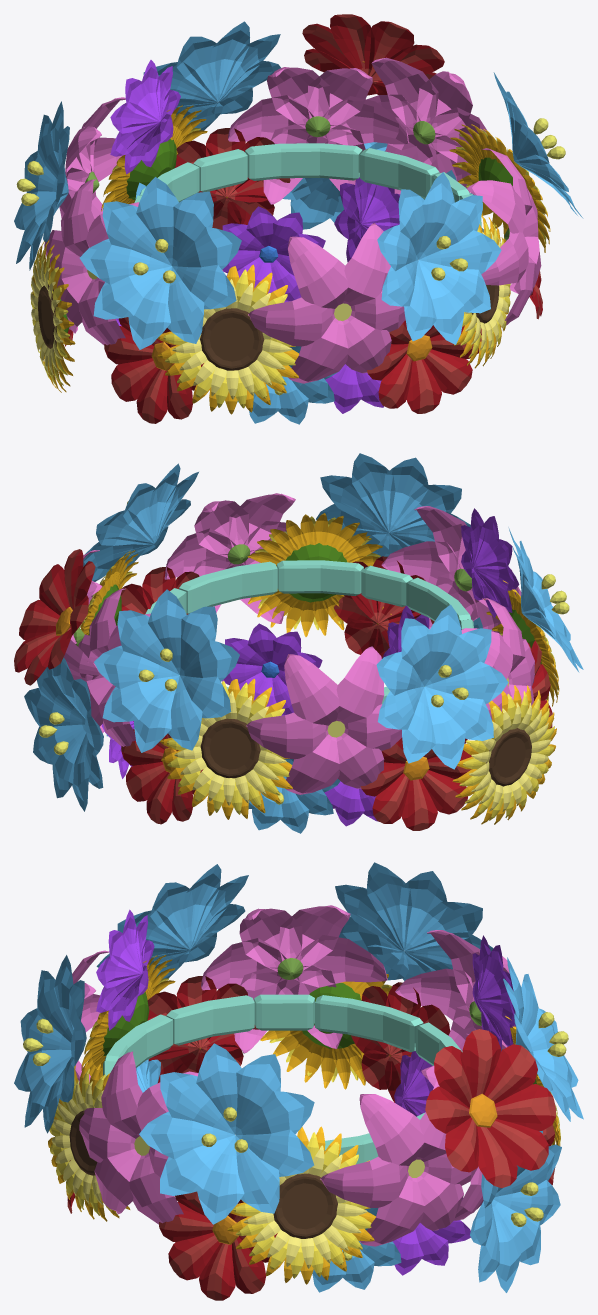
File: The Flower Crown.fbx
3 renders of one model, top to bottom at view 1: azimuth 30°, elevation 25°; view 2: azimuth 150°, elevation 25°; view 3: azimuth 270°, elevation 25°, orthographic. The views are drawn at different scales.
Parts seen in each view (by area): view 1: petal.001, Pink Flower, petal, mid petals.001, Pink Flower.003, Cube, Pink Flower.004, petal.006, Sphere, Sphere.004, Pink Flower.002, Pink Flower.005 (+15 smaller); view 2: petal.006, petal.005, Pink Flower.001, mid petals.003, Cube, mid petals.002, petal, petal.010, mid petals, Pink Flower.005, Sphere.004, Sphere.002 (+17 smaller); view 3: petal.011, Sphere.004, Cube, Pink Flower.004, Pink Flower.002, mid petals.004, petal.005, Pink Flower.005, petal, petal.010, petal.001, Sphere.005 (+15 smaller).
Part boxes in pixels (x1=…): petal.001: x1=79, y1=177, x2=241, y2=349; Pink Flower: x1=248, y1=223, x2=405, y2=383; petal: x1=377, y1=172, x2=501, y2=344; mid petals.001: x1=157, y1=264, x2=298, y2=414; Pink Flower.003: x1=228, y1=67, x2=408, y2=204; Cube: x1=134, y1=143, x2=481, y2=227; Pink Flower.004: x1=342, y1=57, x2=487, y2=194; petal.006: x1=143, y1=21, x2=280, y2=130; Sphere: x1=367, y1=320, x2=481, y2=413; Sphere.004: x1=302, y1=14, x2=444, y2=95; Pink Flower.002: x1=44, y1=179, x2=139, y2=345; Pink Flower.005: x1=466, y1=148, x2=541, y2=326; petal.006: x1=94, y1=589, x2=239, y2=752; petal.005: x1=376, y1=604, x2=508, y2=769; Pink Flower.001: x1=246, y1=646, x2=401, y2=794; mid petals.003: x1=160, y1=678, x2=292, y2=819; Cube: x1=145, y1=560, x2=473, y2=704; mid petals.002: x1=452, y1=685, x2=556, y2=824; petal: x1=316, y1=453, x2=470, y2=557; petal.010: x1=24, y1=657, x2=103, y2=811; mid petals: x1=247, y1=513, x2=382, y2=636; Pink Flower.005: x1=164, y1=493, x2=295, y2=623; Sphere.004: x1=14, y1=549, x2=95, y2=685; Sphere.002: x1=360, y1=738, x2=471, y2=830; petal.011: x1=139, y1=1043, x2=314, y2=1224; Sphere.004: x1=425, y1=1029, x2=555, y2=1188; Cube: x1=103, y1=994, x2=462, y2=1164; Pink Flower.004: x1=320, y1=1080, x2=478, y2=1246; Pink Flower.002: x1=201, y1=905, x2=387, y2=1053; mid petals.004: x1=227, y1=1126, x2=375, y2=1284; petal.005: x1=335, y1=862, x2=493, y2=980; Pink Flower.005: x1=79, y1=1051, x2=198, y2=1224; petal: x1=14, y1=955, x2=86, y2=1133; petal.010: x1=470, y1=1130, x2=561, y2=1292; petal.001: x1=96, y1=864, x2=248, y2=978; Sphere.005: x1=159, y1=1191, x2=277, y2=1300.
Bounding box in the file's own units: 2573 × 1226 × 2469.
